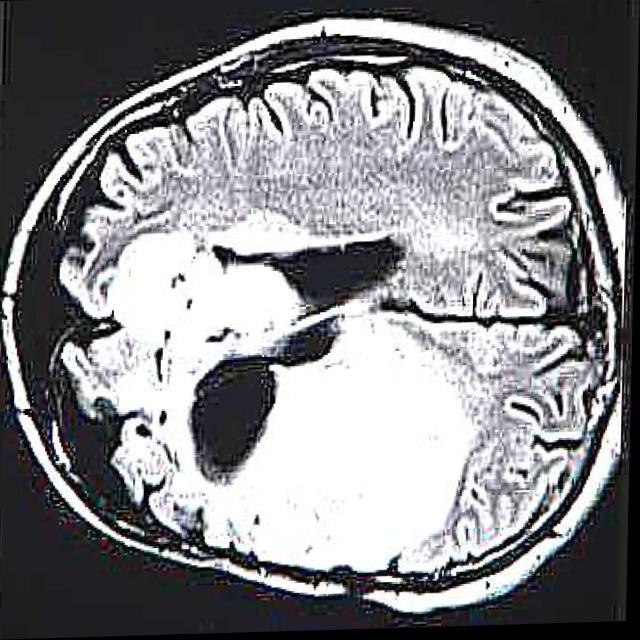Tumor: (109, 210, 476, 578)
